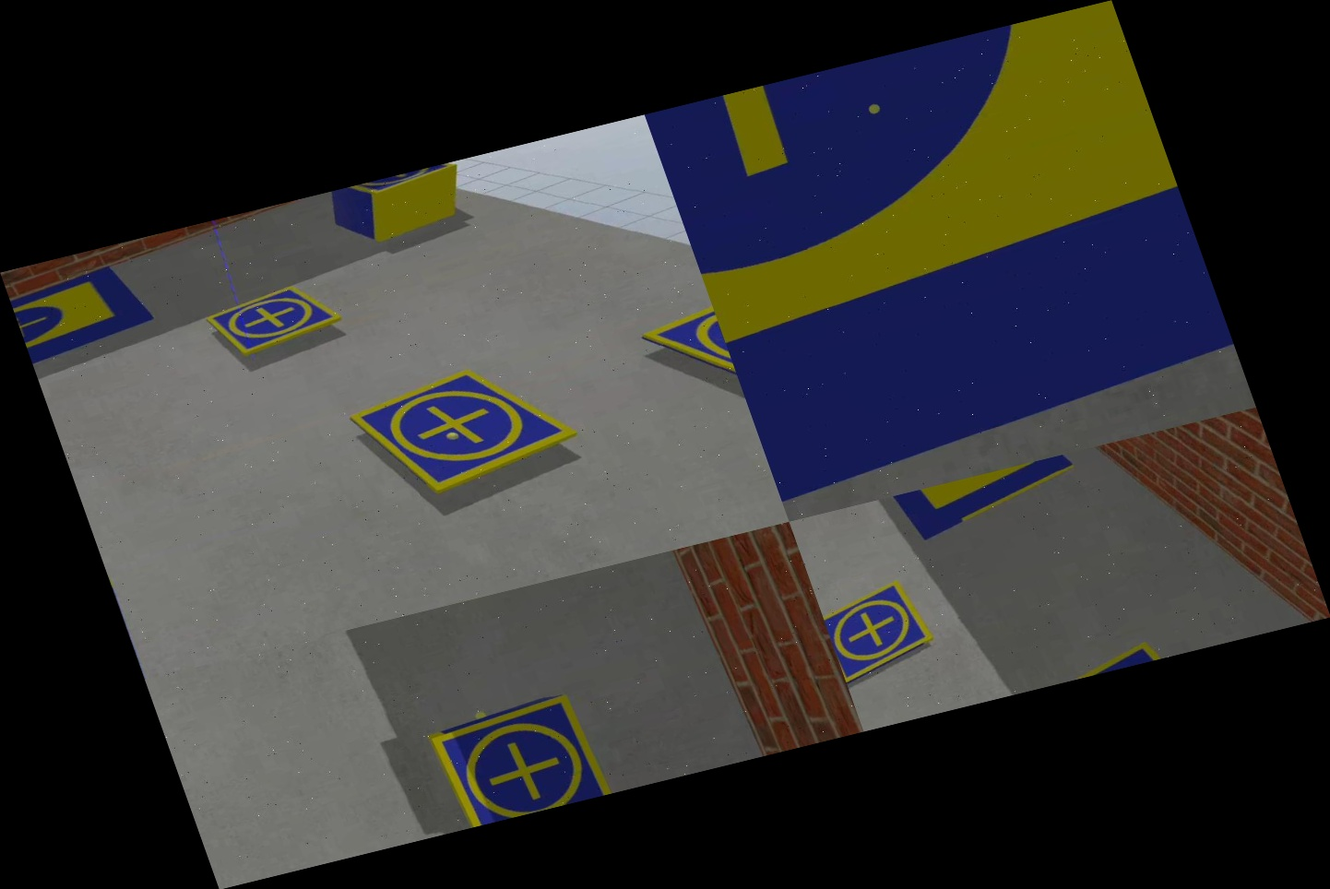large_base: (645, 0, 1250, 504), (868, 452, 1092, 551), (6, 255, 168, 378)
small_base: (337, 341, 593, 514), (423, 690, 614, 830), (816, 575, 943, 687), (200, 273, 349, 363), (631, 302, 745, 418), (332, 160, 463, 211)
